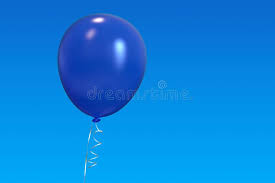Balloon: (58, 13, 147, 118)
